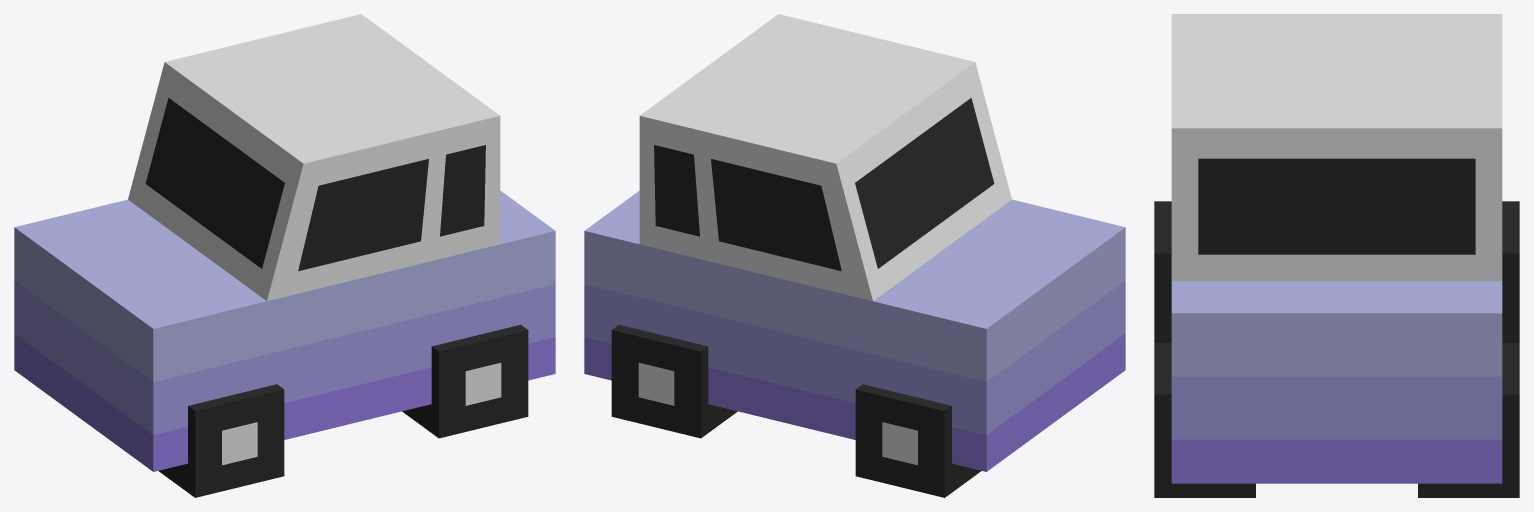
The model's file is Car.fbx.
3 views of the same model, side by side, from view 1: azimuth 30°, elevation 25°; view 2: azimuth 150°, elevation 25°; view 3: azimuth 270°, elevation 25° (orthographic). The views are drawn at different scales.
Parts seen in each view (by area): view 1: Mobil; view 2: Mobil; view 3: Mobil.
Part boxes in pixels (x1,y1,x2,y2): Mobil: (14, 14, 555, 497); Mobil: (584, 14, 1125, 497); Mobil: (1154, 14, 1519, 497).
Bounding box in the file's own units: 1.31 × 0.9396 × 0.87.
